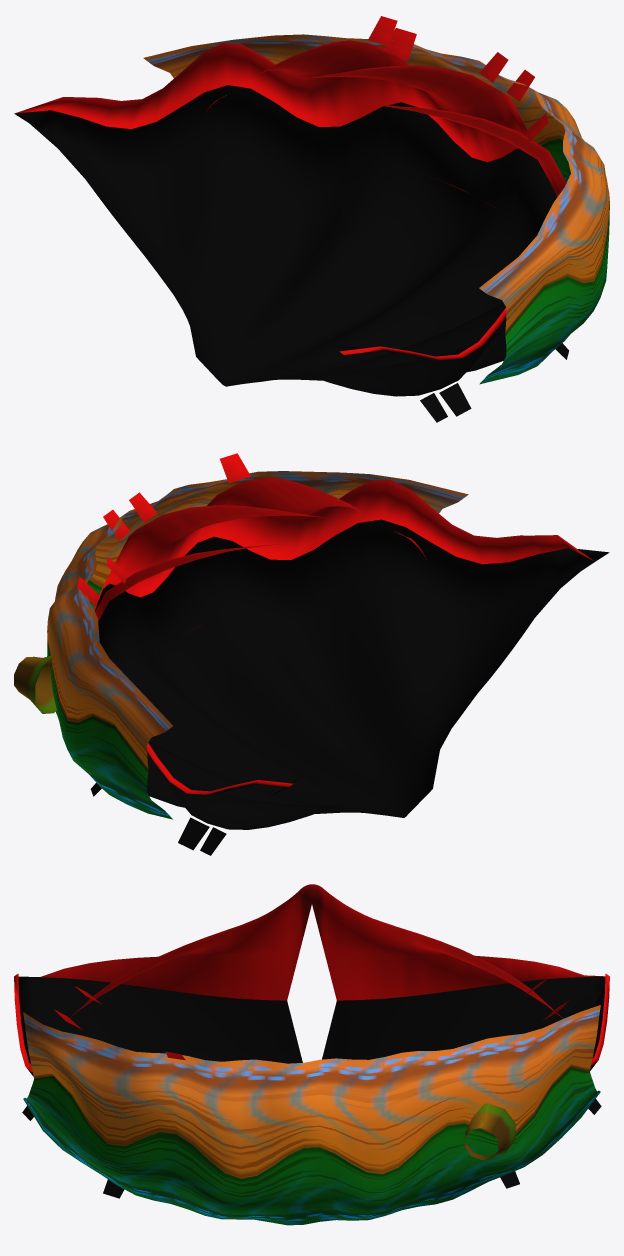
File: crocea_clam.glb
3 views of the same model, one above another, from view 1: azimuth 30°, elevation 25°; view 2: azimuth 150°, elevation 25°; view 3: azimuth 270°, elevation 25° (orthographic). The views are drawn at different scales.
Visible parts, largest first — view 1: Shell, Mantle; view 2: Shell, Mantle; view 3: Mantle, Shell.
Boxes of the visible parts, left/top/right/bottom form: Shell: left=14, top=16, right=568, bottom=422; Mantle: left=143, top=34, right=609, bottom=384; Shell: left=77, top=453, right=609, bottom=855; Mantle: left=14, top=471, right=468, bottom=819; Mantle: left=23, top=1005, right=600, bottom=1225; Shell: left=14, top=884, right=609, bottom=1198.
Bounding box in the file's own units: 0.6803 × 0.4793 × 1.
2 materials, 2 textured.
